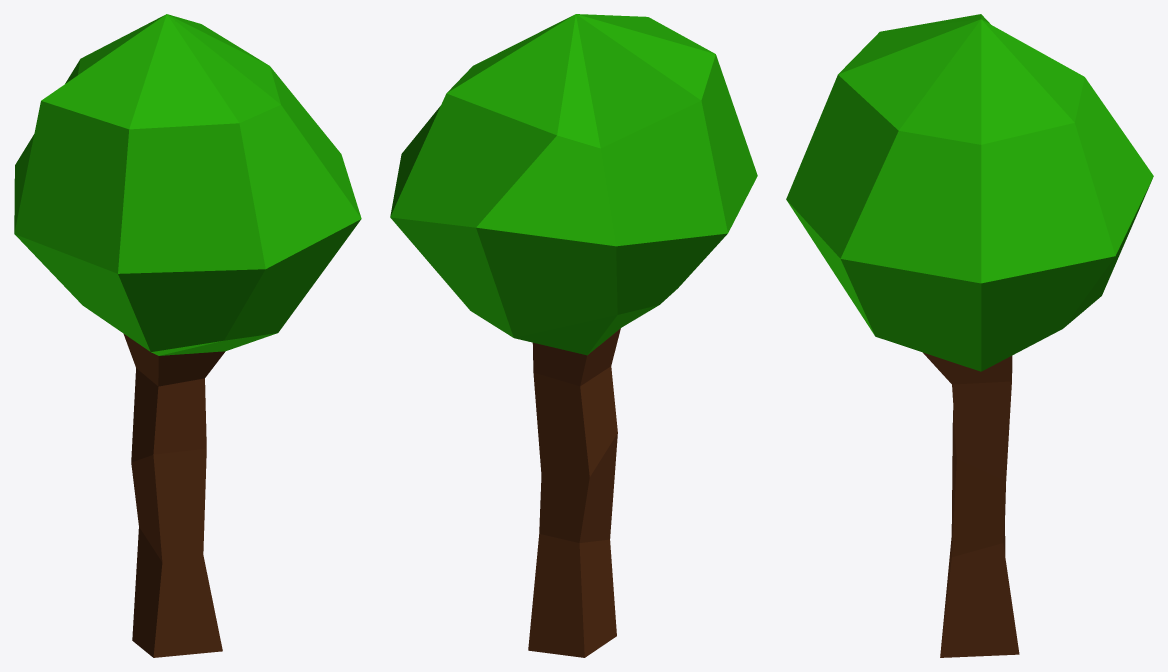
The model's file is Tree.fbx.
3 views of the same model, side by side, from view 1: azimuth 30°, elevation 25°; view 2: azimuth 150°, elevation 25°; view 3: azimuth 270°, elevation 25° (orthographic).
Parts seen in each view (by area): view 1: Tree; view 2: Tree; view 3: Tree.
Boxes of the visible parts, <box> form: Tree: <box>14,14,361,657</box>; Tree: <box>390,14,757,657</box>; Tree: <box>786,14,1153,657</box>.
Size of the model in its own units: 1200 by 2211 by 1185.
1 material, 1 textured.
